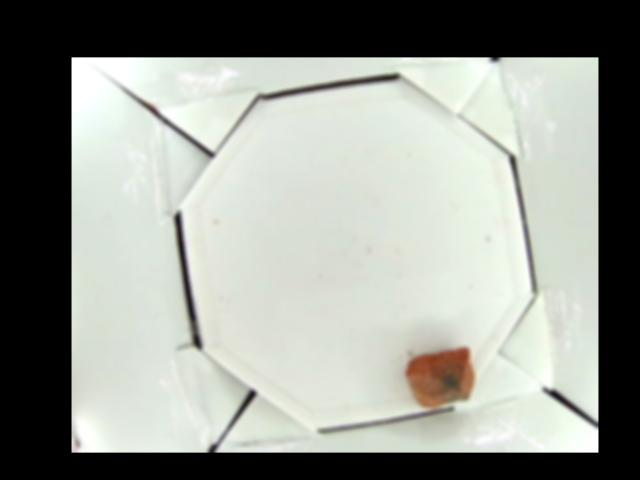Brisk: (405, 344, 474, 411)
